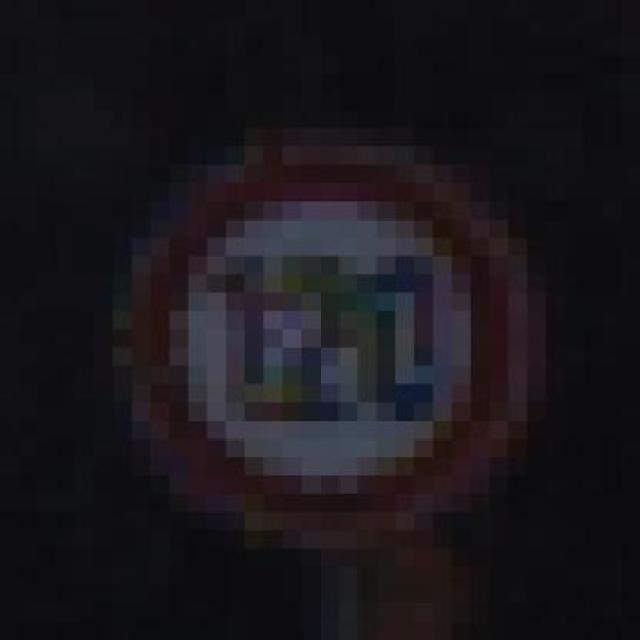forb_speed_over_120: (133, 158, 519, 529)
